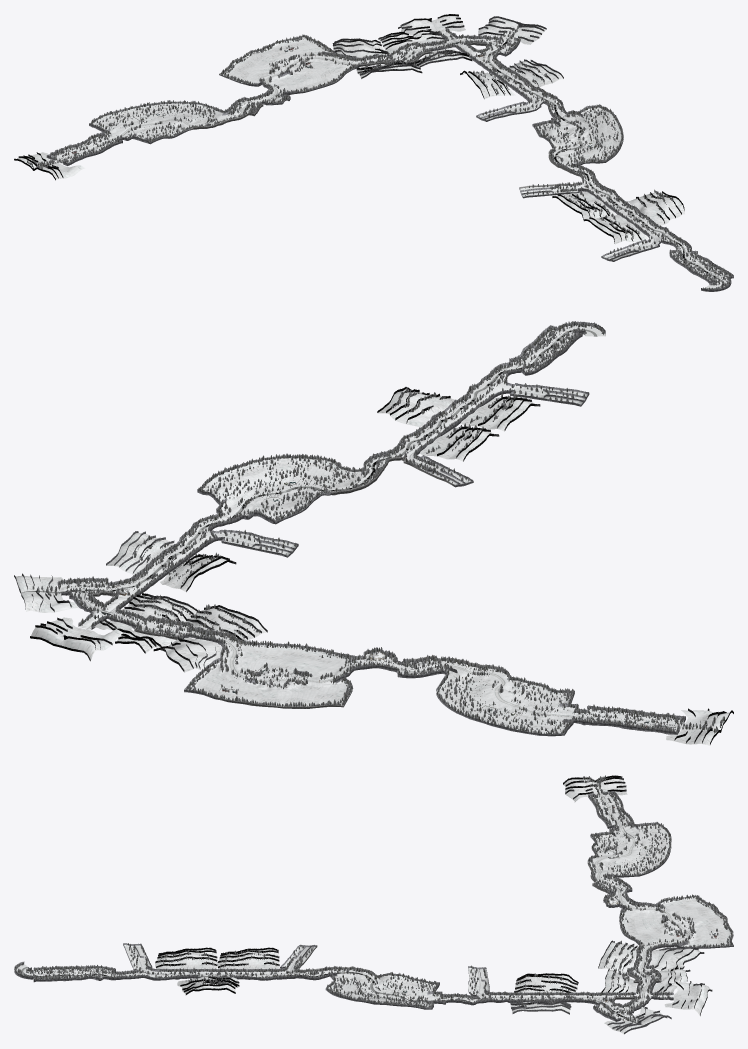
The model's file is sweden_stage1_visual.glb.
The picture shows the model from 3 angles, top to bottom: view 1: azimuth 30°, elevation 25°; view 2: azimuth 150°, elevation 25°; view 3: azimuth 270°, elevation 25°; orthographic projection. The views are drawn at different scales.
Visible parts, largest first — view 1: Track_Road_And_Terrain, Foliage_And_Vegetation; view 2: Track_Road_And_Terrain, Foliage_And_Vegetation; view 3: Track_Road_And_Terrain, Foliage_And_Vegetation.
Part boxes in pixels (<box>): Track_Road_And_Terrain: <box>17,16,733,291</box>; Foliage_And_Vegetation: <box>14,14,732,289</box>; Track_Road_And_Terrain: <box>16,321,729,745</box>; Foliage_And_Vegetation: <box>14,321,733,744</box>; Track_Road_And_Terrain: <box>14,777,733,1034</box>; Foliage_And_Vegetation: <box>14,775,733,1034</box>.
Bounding box in the file's own units: 2346 × 76.84 × 2785.
Materials: 67 (67 with a texture image).
